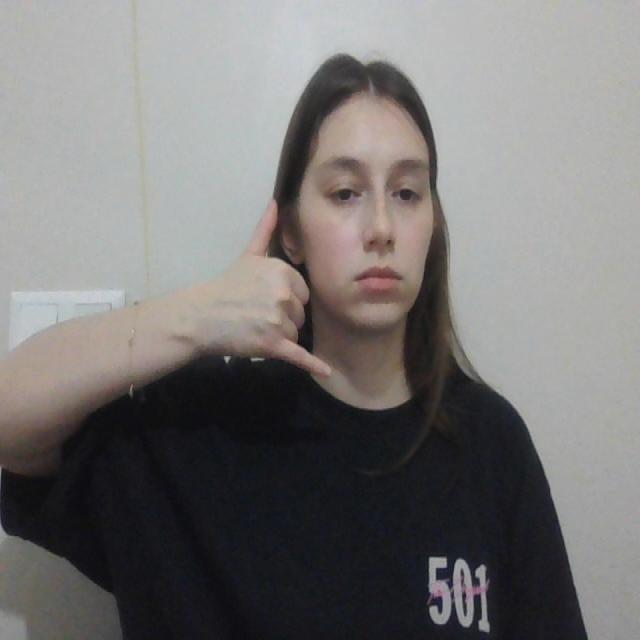Telefon: (225, 189, 338, 397)
